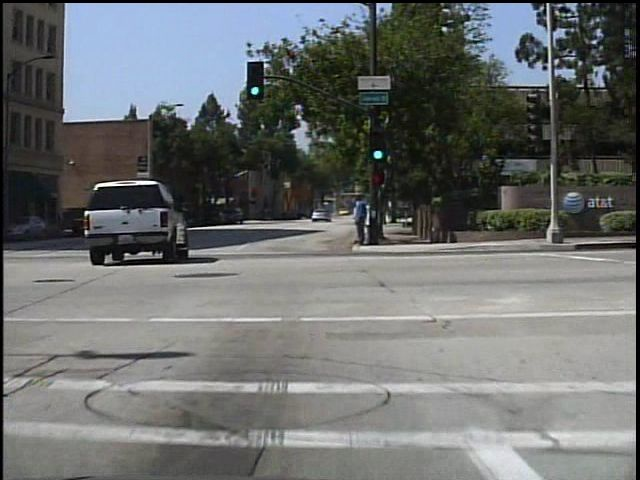person: (349, 193, 369, 249), (357, 196, 375, 247)
